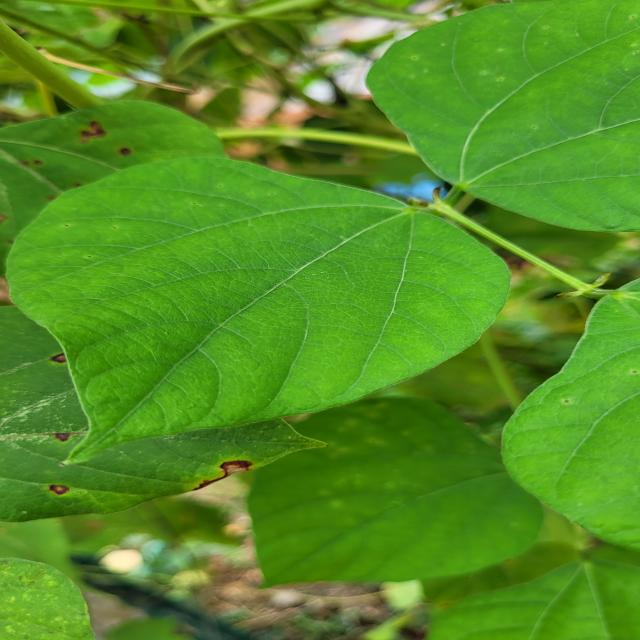Dolicos bean_healthy: (0, 164, 506, 458), (373, 0, 640, 231), (238, 405, 556, 583), (508, 274, 640, 553)
